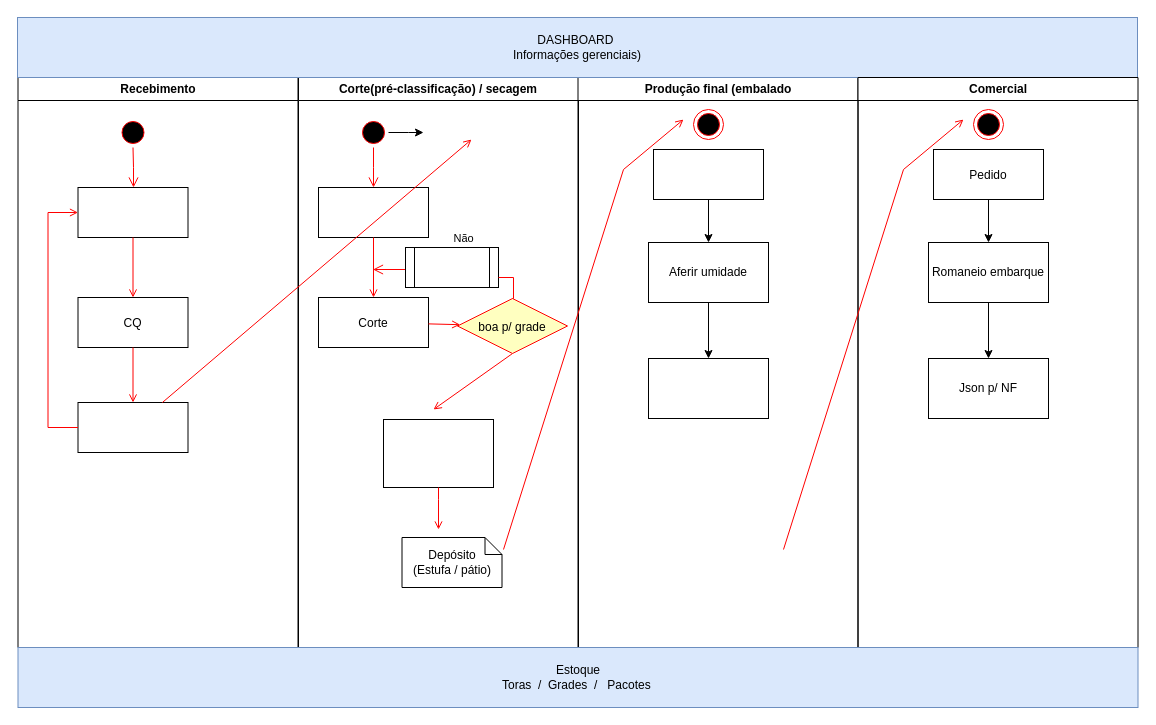
This 1156x725 diagram has some shape labels left out. Here are the shapes that lost their labels. From the top down, the centre of each, then its label:
the point at 708,174: Desgradiador Lote X
the point at 132,212: Balança / Entrada NF
the point at 373,212: Lote p/ corte
the point at 451,267: Aproveitamento
the point at 708,388: Identificar pacote / Produto final (etiqueta cb)
the point at 132,427: Depósito (patio | Tabik)
the point at 438,453: Grade (identificar Tabik ou Etiqueta)
